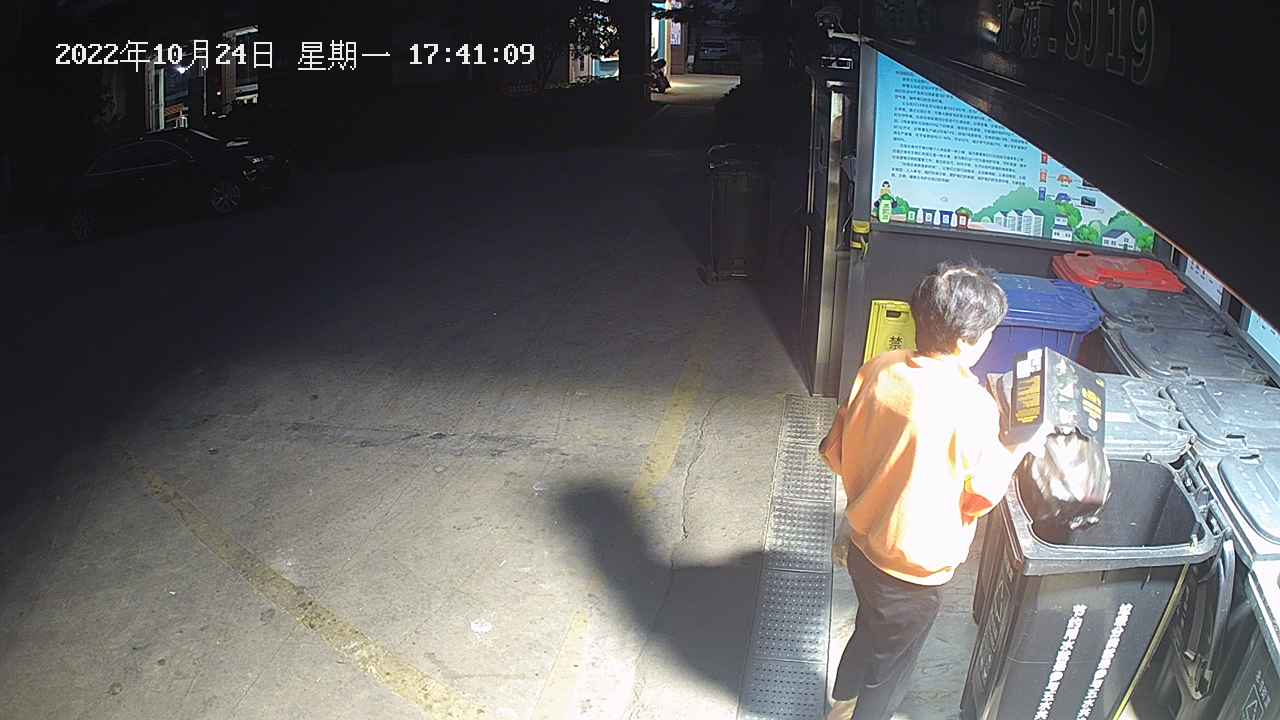garbage-bag: (1014, 432, 1114, 533)
worker: (817, 257, 1049, 720)
zhizhipin: (995, 346, 1106, 448)
